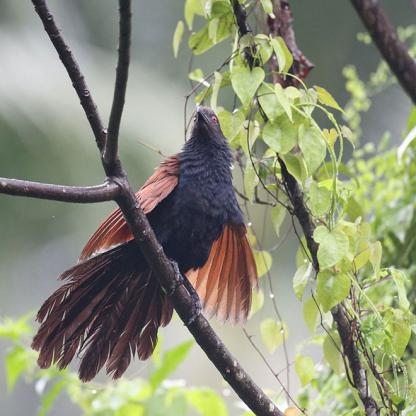Burung: (30, 106, 261, 382)
